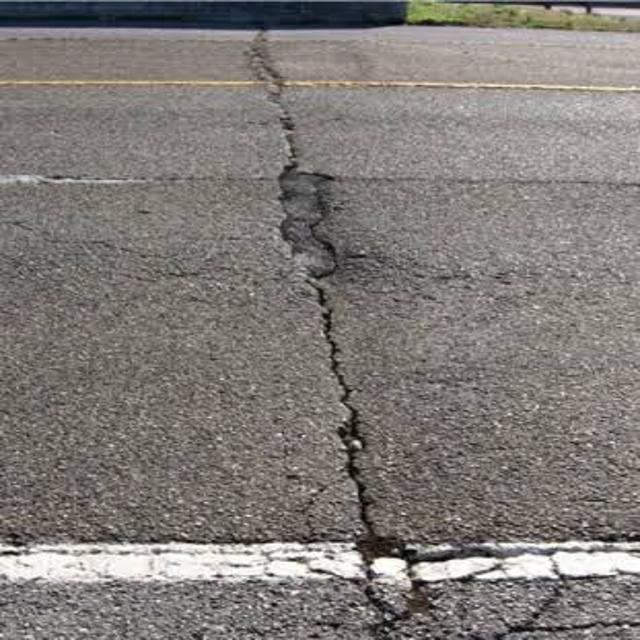Memanjang: (239, 29, 445, 640)
